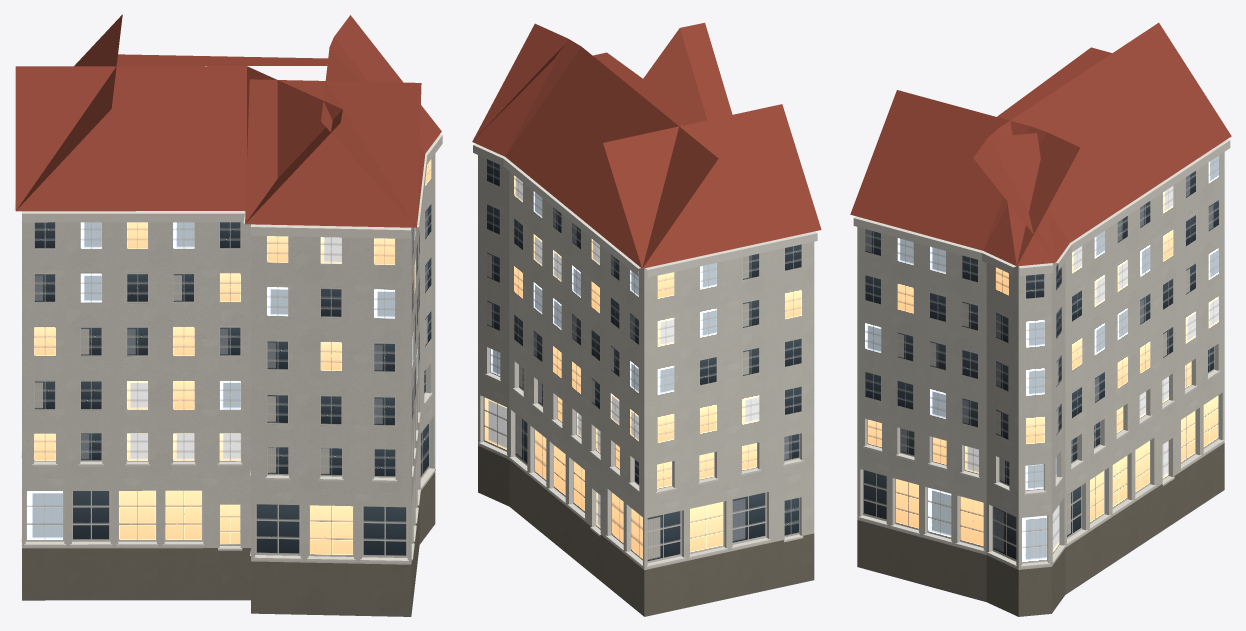
Rendered from z3c_hohl_white.glb.
3 renders of one model, left to right at view 1: azimuth 30°, elevation 25°; view 2: azimuth 150°, elevation 25°; view 3: azimuth 270°, elevation 25°, orthographic. The views are drawn at different scales.
Parts seen in each view (by area): view 1: z3c_hohl_white; view 2: z3c_hohl_white; view 3: z3c_hohl_white.
Part boxes in pixels (x1=…): z3c_hohl_white: x1=14, y1=14, x2=442, y2=616; z3c_hohl_white: x1=471, y1=22, x2=821, y2=616; z3c_hohl_white: x1=850, y1=22, x2=1231, y2=616.
Size of the model in its own units: 24.21 by 28.52 by 22.06.
3 materials, 3 textured.
